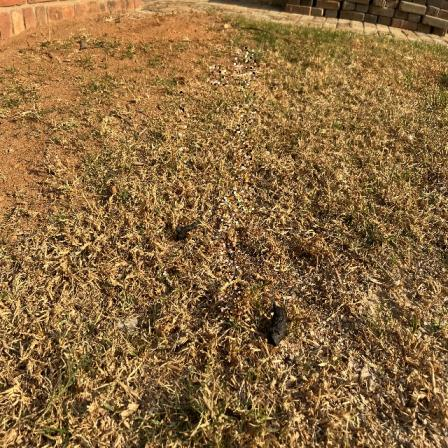dog-poop: (260, 300, 304, 349), (169, 216, 210, 250)
